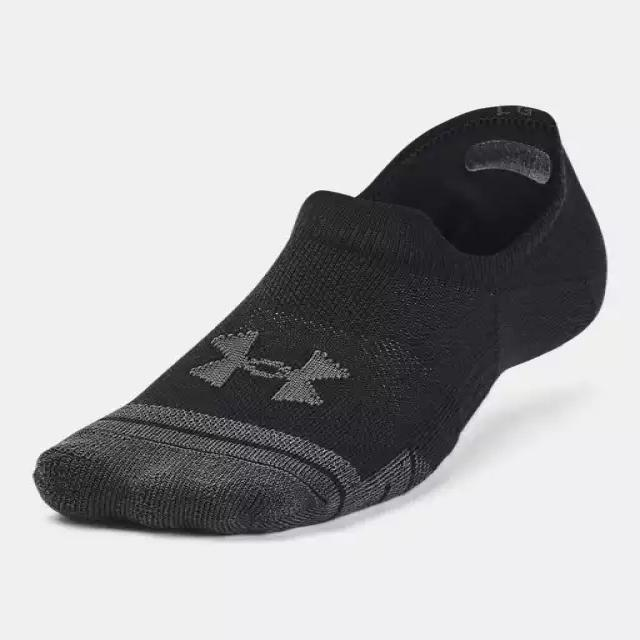sock: (32, 103, 608, 535)
